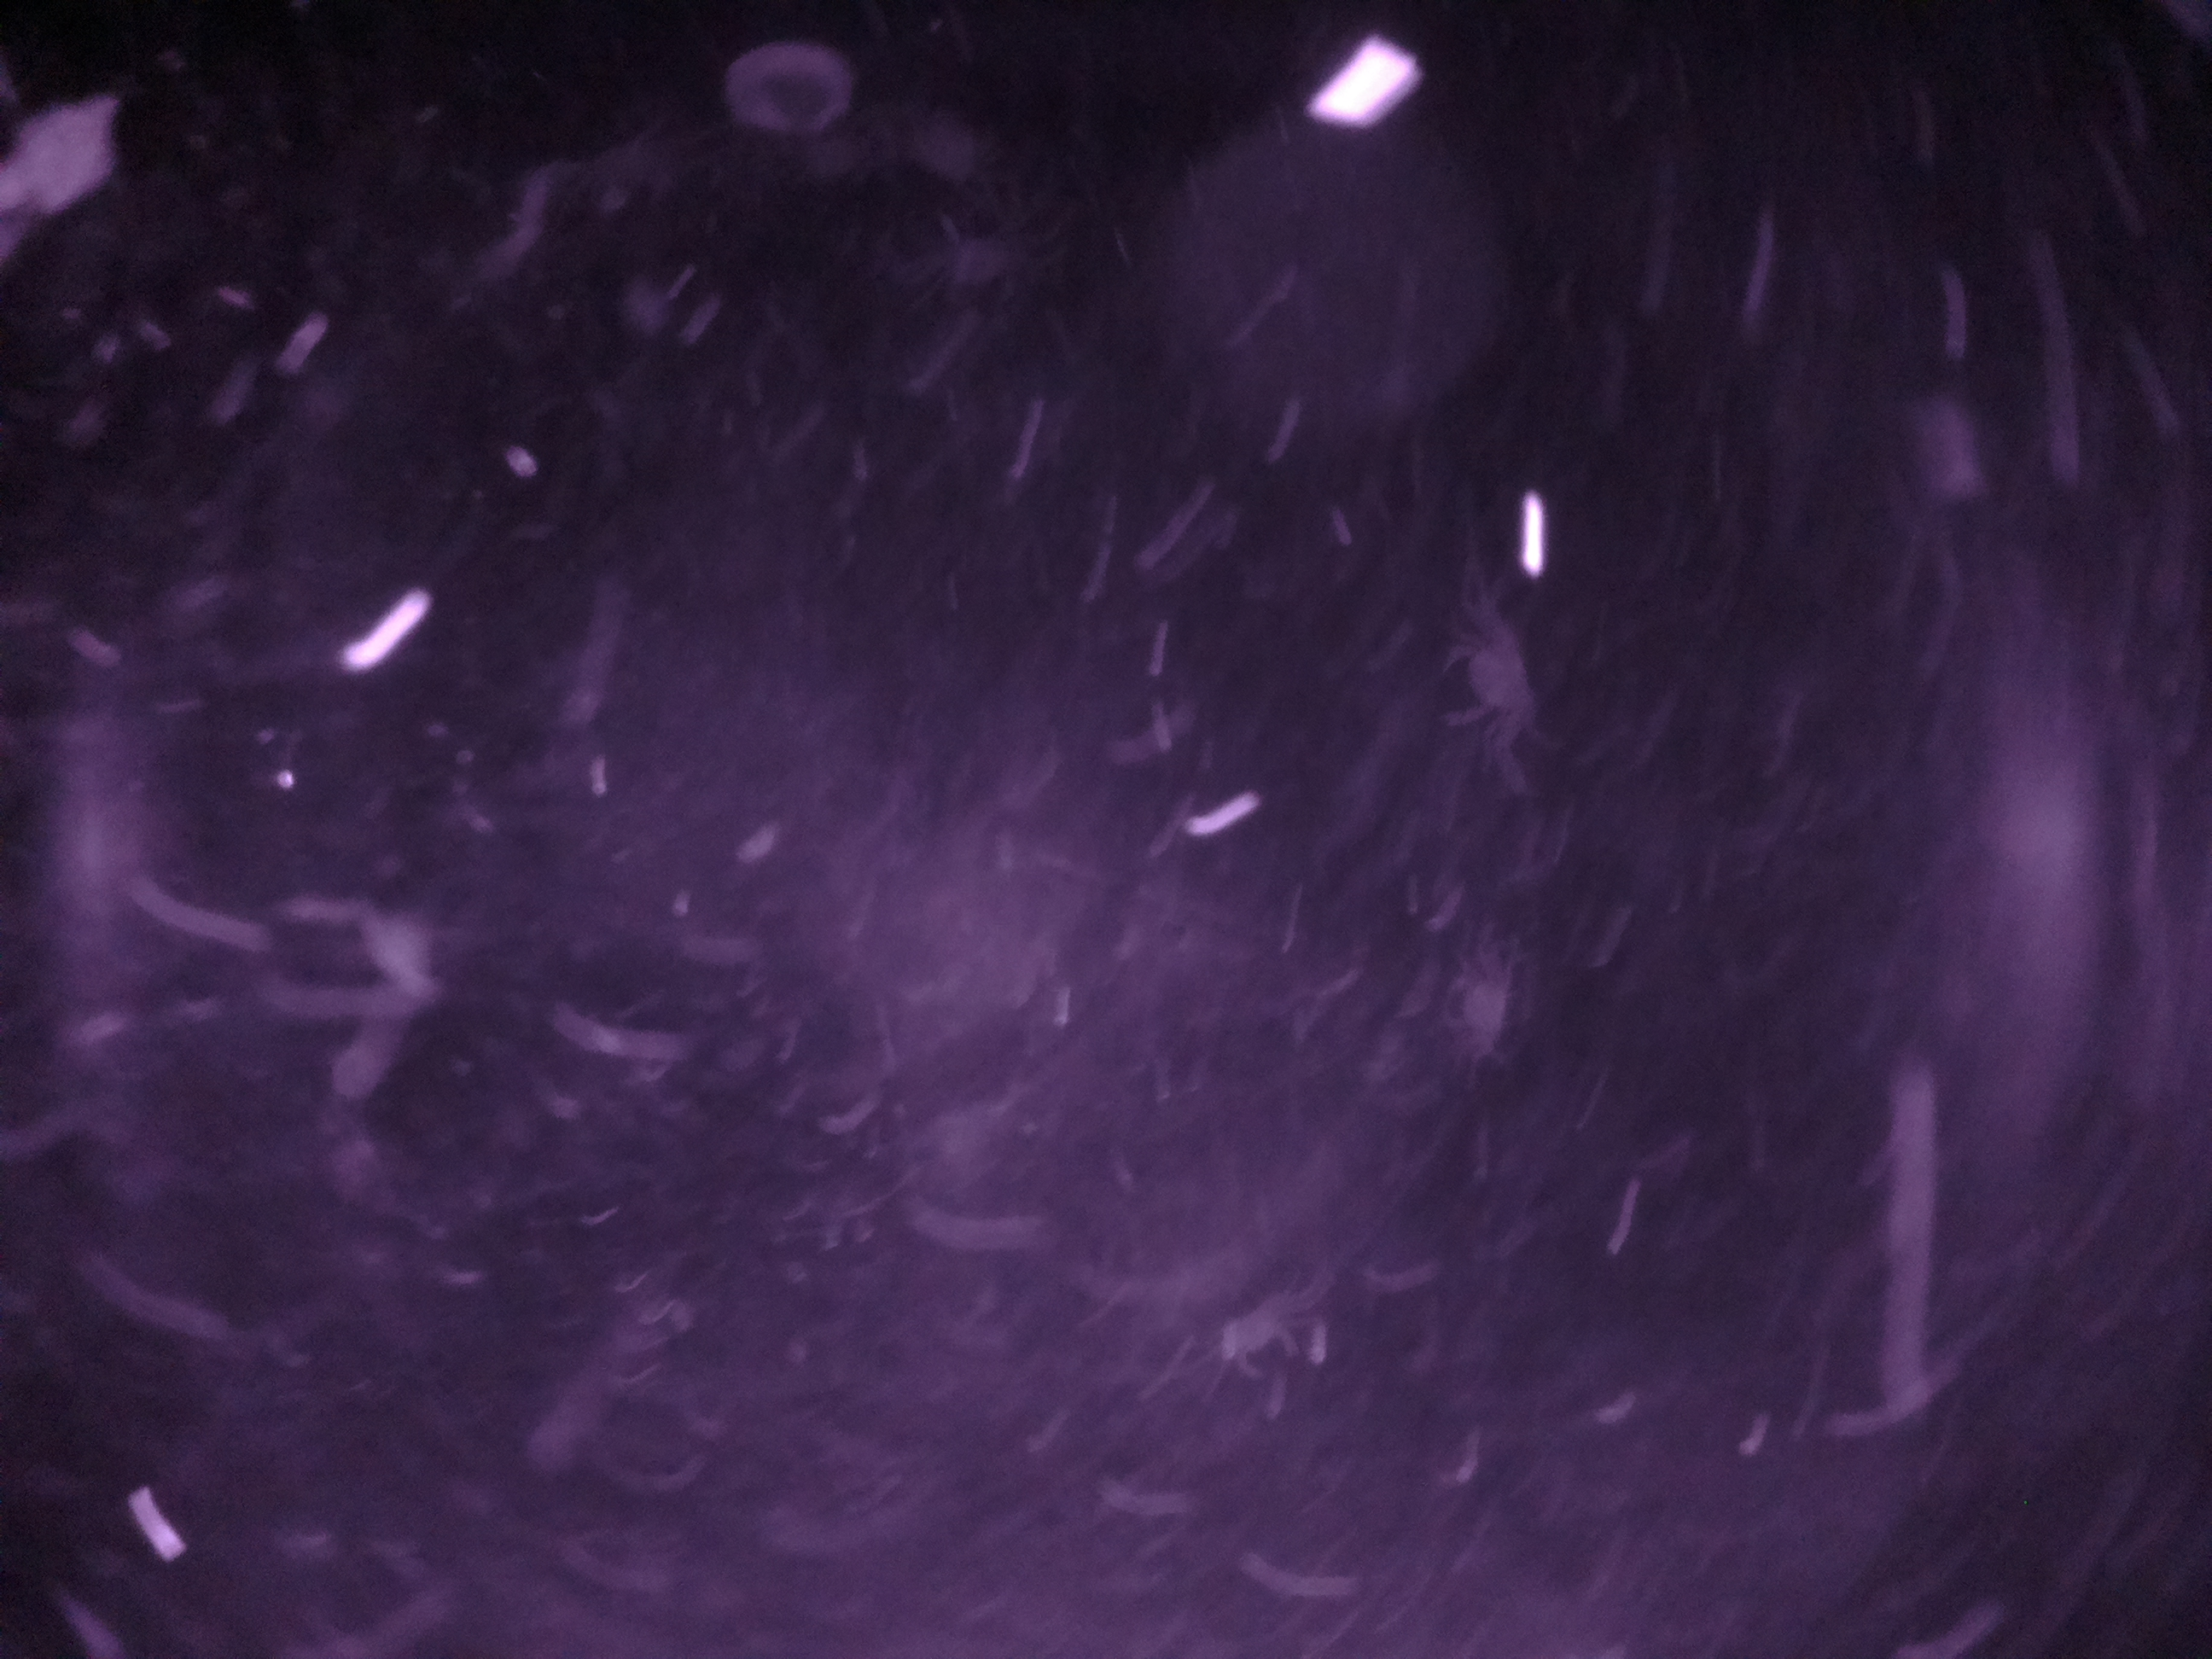Crab: (1426, 612, 1552, 746)
